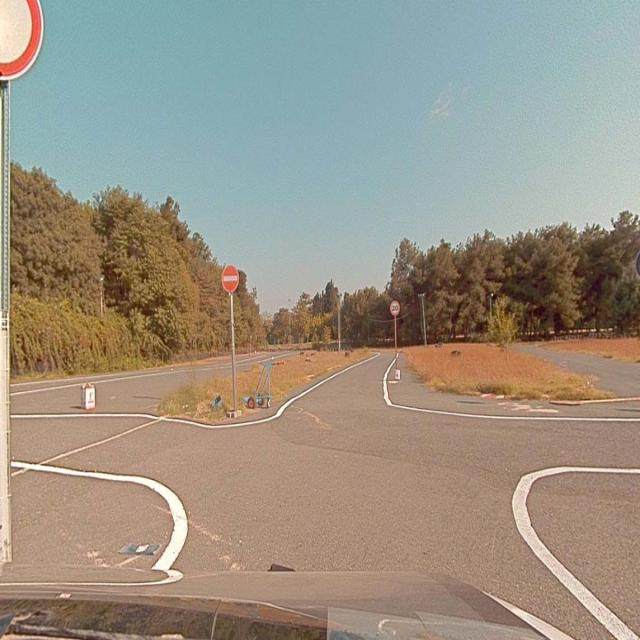20: (390, 300, 400, 316)
girisyok: (222, 266, 238, 292)
